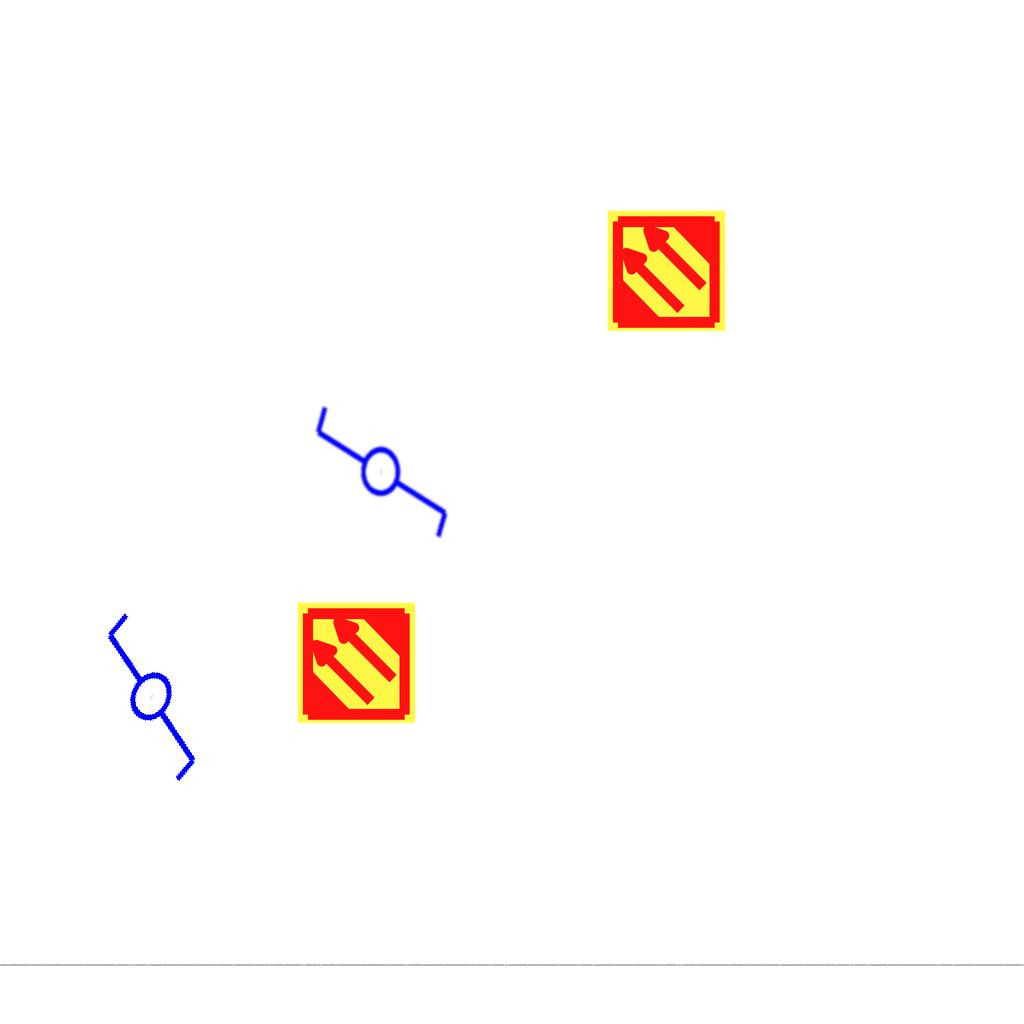ASR_Ansaugrauchmelder: (294, 600, 419, 725), (604, 208, 729, 333)
Wechselschalter: (58, 589, 255, 791), (311, 385, 455, 542)
